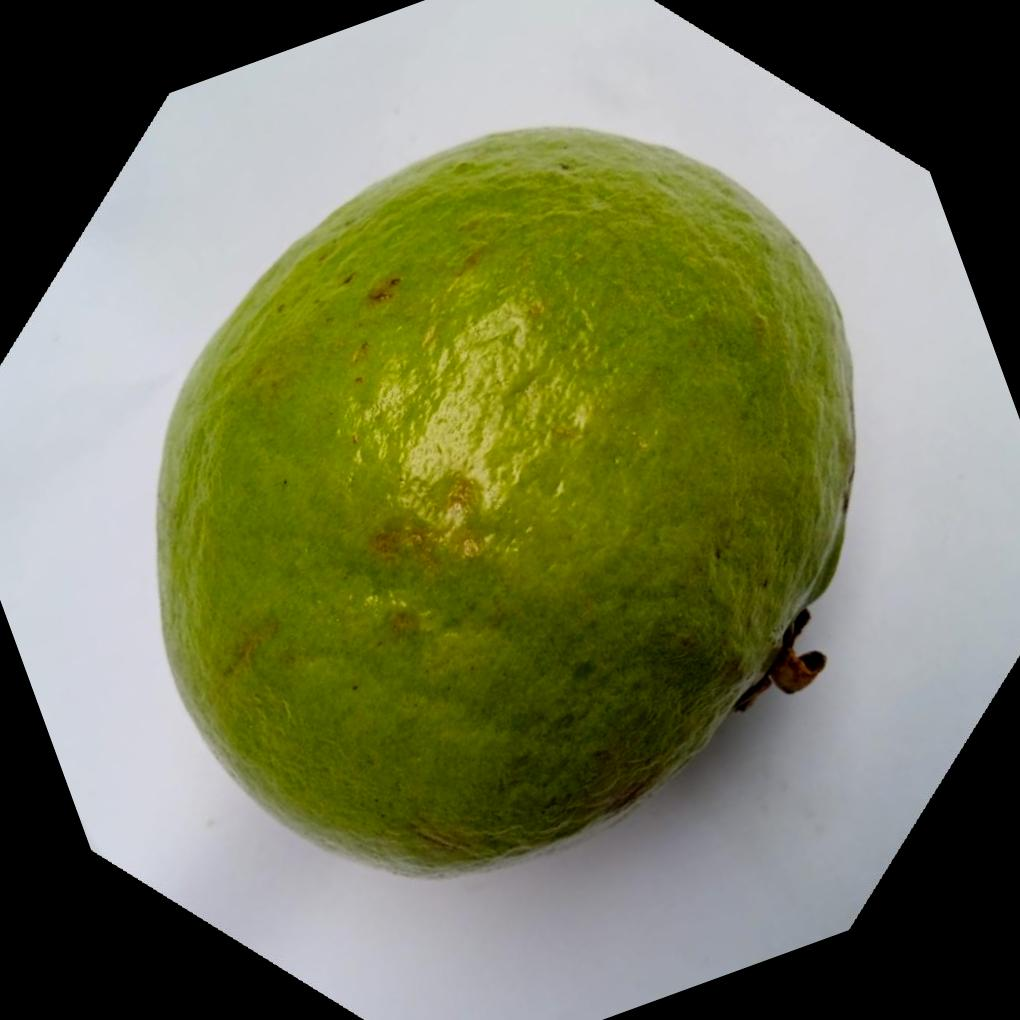FreshGuava: (156, 122, 860, 881)
